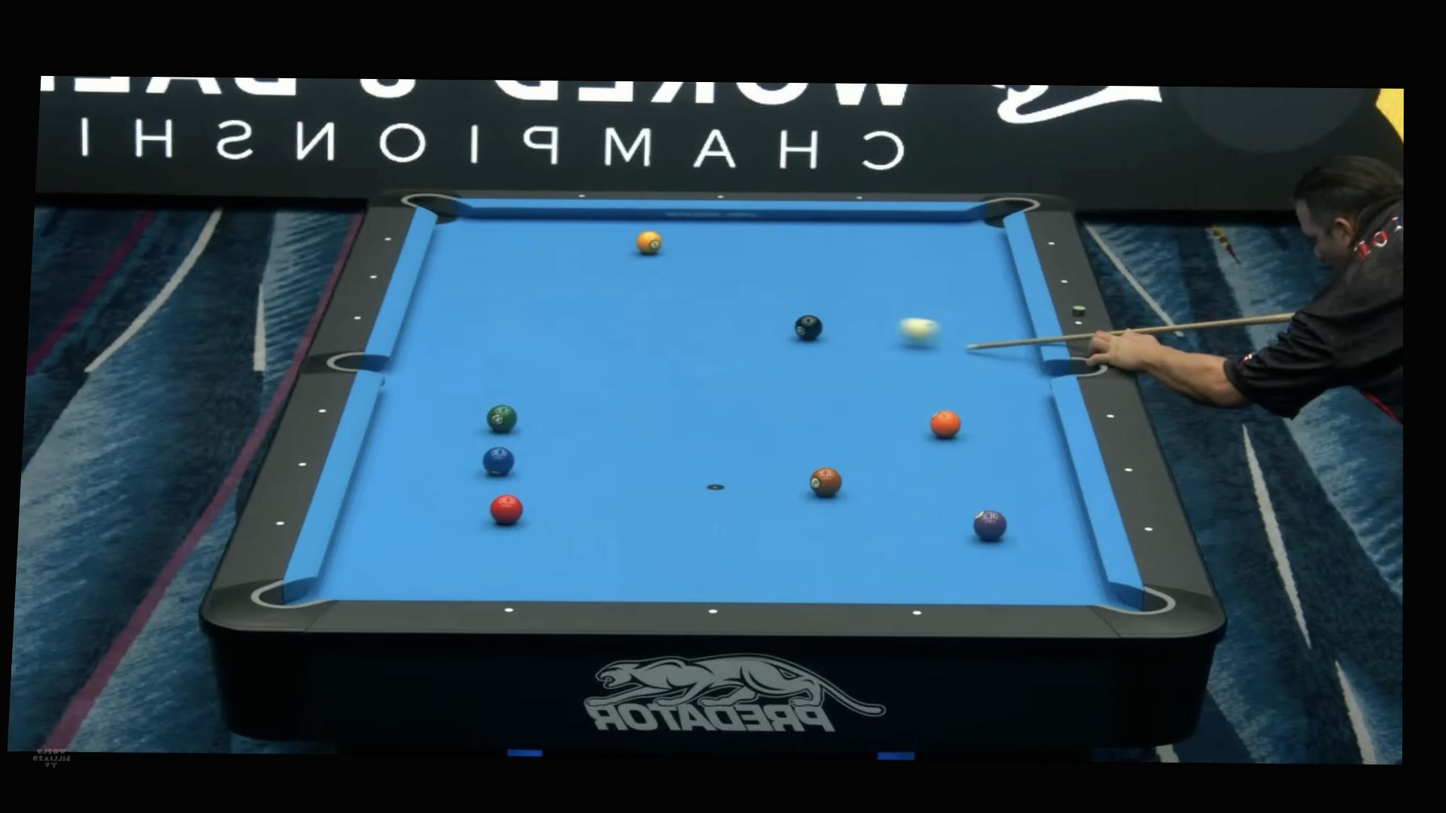Black: (911, 606, 925, 618), (502, 604, 516, 616), (705, 606, 718, 618), (315, 405, 328, 417), (274, 518, 286, 530), (295, 459, 308, 470), (1144, 525, 1153, 533), (1124, 466, 1133, 474), (1106, 412, 1115, 420), (1074, 319, 1083, 327), (370, 273, 378, 281), (384, 235, 392, 243), (1047, 240, 1055, 248), (353, 314, 362, 321), (1061, 279, 1069, 286), (716, 193, 724, 200), (856, 194, 863, 201), (578, 193, 585, 200)
Cue: (972, 509, 1008, 541), (809, 466, 843, 498), (489, 493, 524, 524), (482, 446, 516, 477), (930, 409, 962, 439), (486, 404, 518, 433), (636, 230, 662, 255)
Solid: (794, 314, 824, 340)
Stripe: (900, 316, 938, 346)
